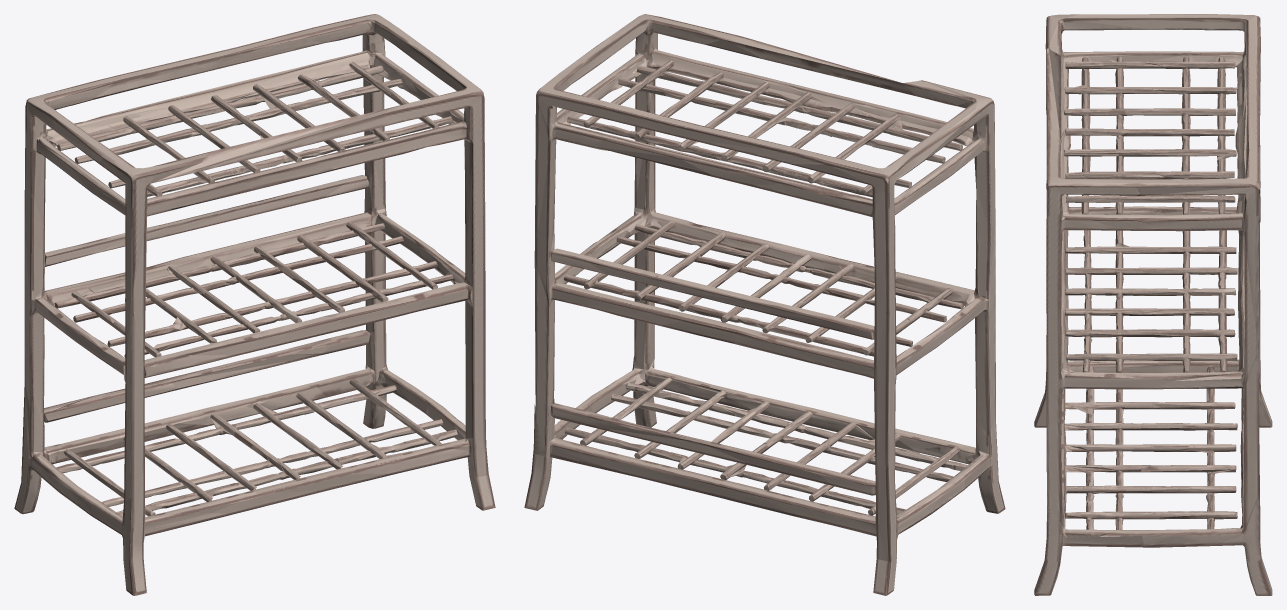
File: raw_shelf.glb
The picture shows the model from 3 angles, left to right: view 1: azimuth 30°, elevation 25°; view 2: azimuth 150°, elevation 25°; view 3: azimuth 270°, elevation 25°; orthographic projection.
Bounding box in the file's own units: 1.75 × 1.9 × 0.9991.
1 material, 1 textured.
